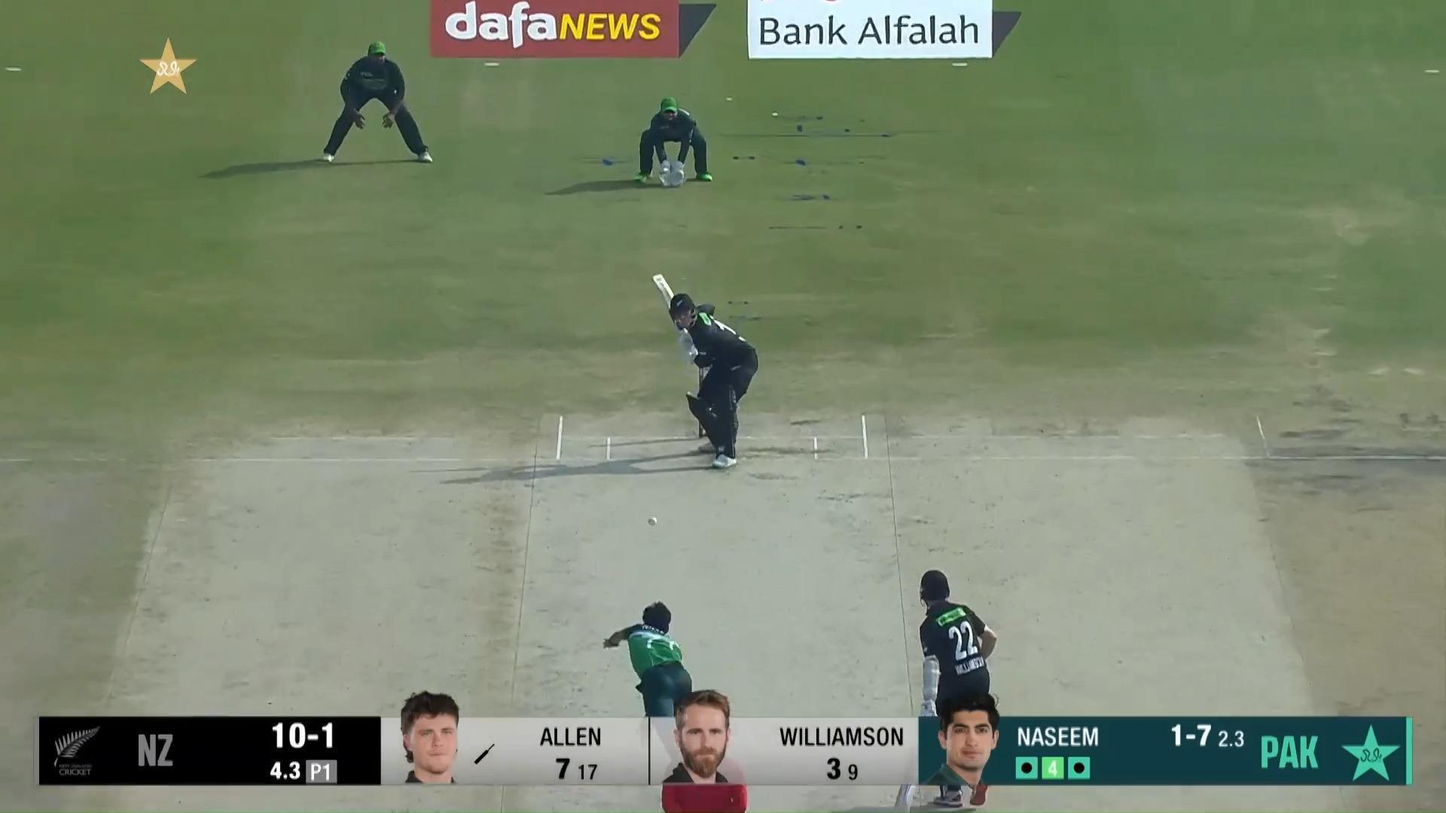BM 1: (651, 271, 760, 470)
BO: (603, 601, 693, 716)
